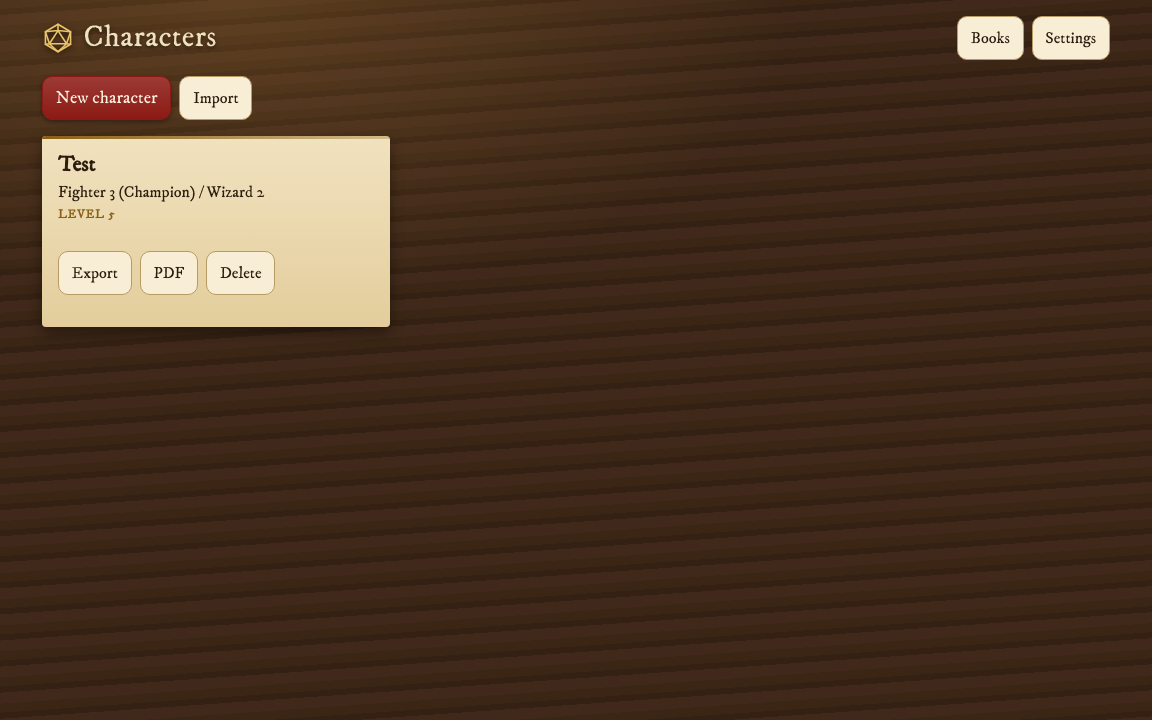
character list › deletes a character only after confirming
Click the button "Delete": (241, 274) x1=206 y1=252 x2=275 y2=296
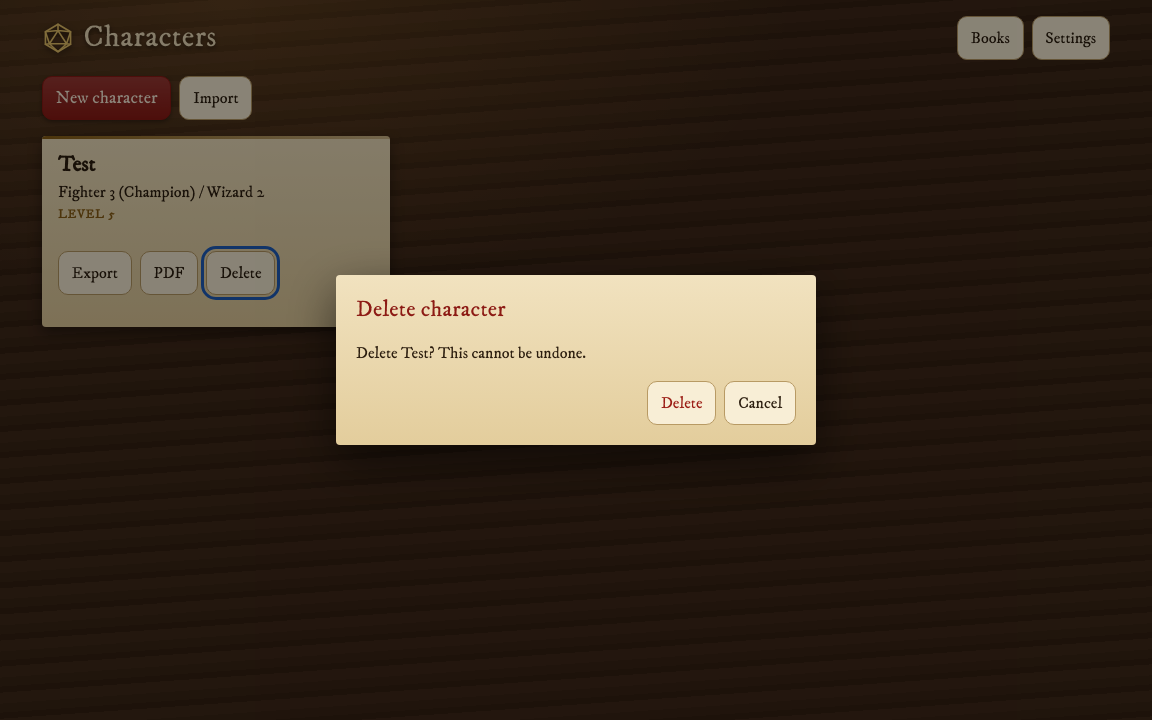
Click the button with class "danger": (682, 403) x1=647 y1=381 x2=716 y2=425
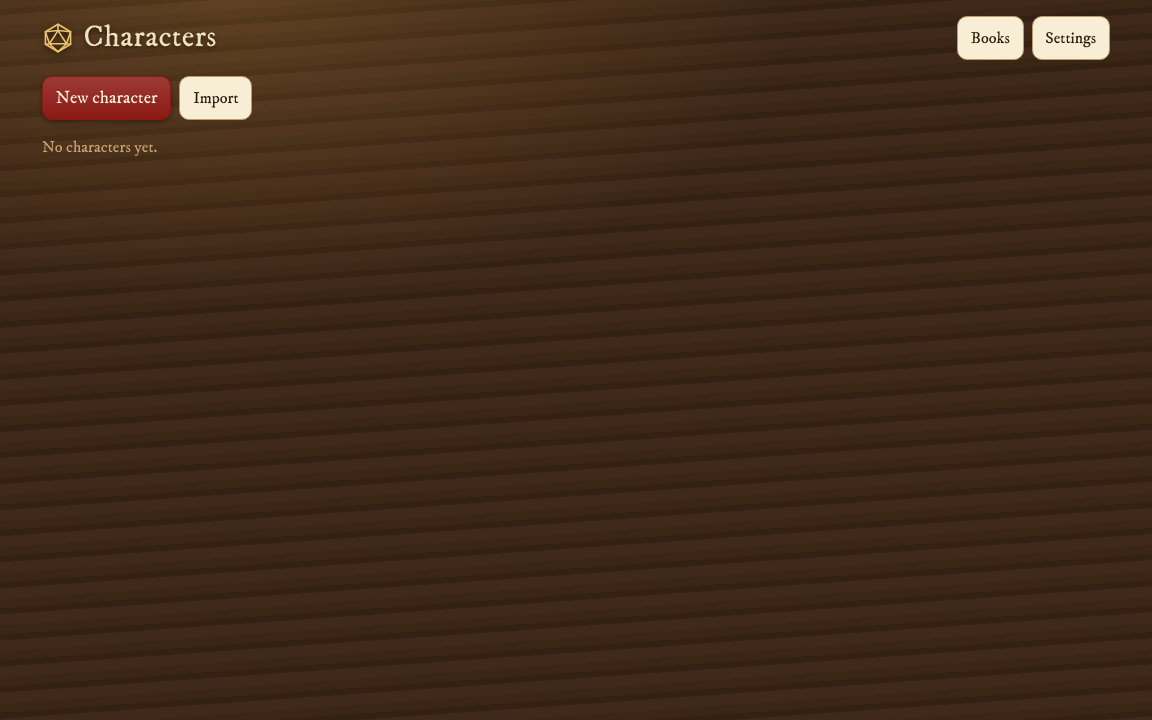
Expected: the text "No characters yet." is shown, x1=42 y1=137 x2=157 y2=157
